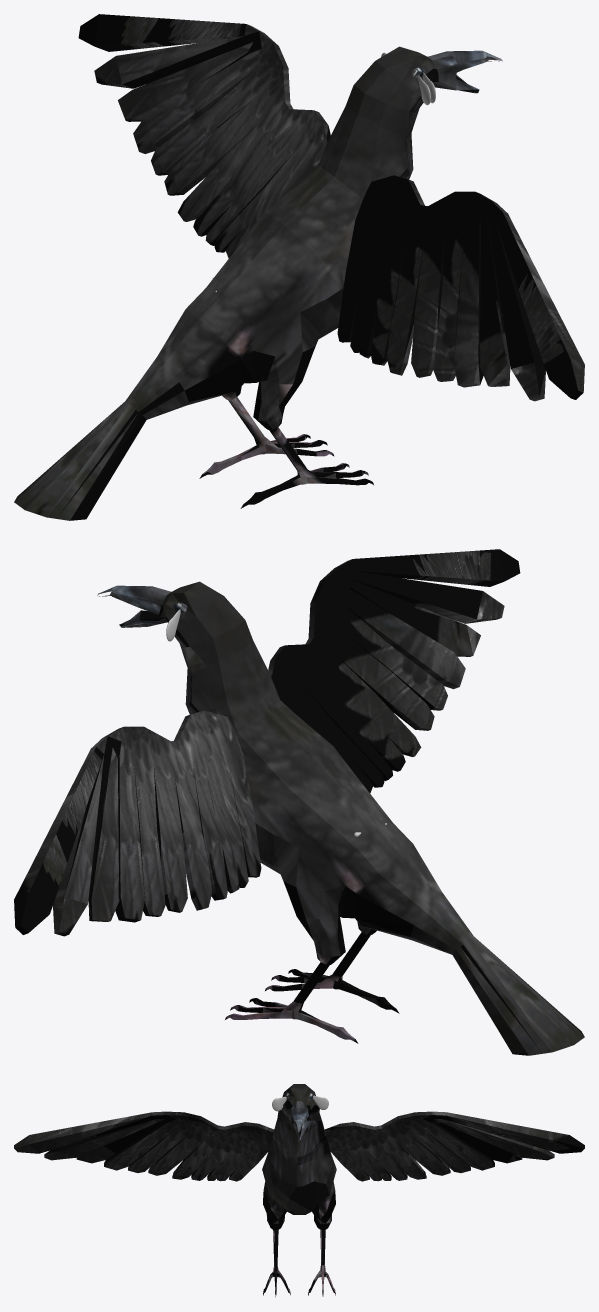
The model's file is aasooo_000000.obj.
3 renders of one model, top to bottom at view 1: azimuth 30°, elevation 25°; view 2: azimuth 150°, elevation 25°; view 3: azimuth 270°, elevation 25°, orthographic. The views are drawn at different scales.
Parts seen in each view (by area): view 1: Cylinder.001, Cylinder.003, Cylinder.002; view 2: Cylinder.001, Cylinder.002, Cylinder.003; view 3: Cylinder.002, Cylinder.003, Cylinder.001.
Part boxes in pixels (bbox=[...]): Cylinder.001: bbox=[14, 46, 502, 520]; Cylinder.003: bbox=[337, 175, 584, 401]; Cylinder.002: bbox=[78, 14, 330, 258]; Cylinder.001: bbox=[97, 581, 584, 1055]; Cylinder.002: bbox=[14, 710, 261, 936]; Cylinder.003: bbox=[268, 549, 520, 793]; Cylinder.002: bbox=[324, 1111, 584, 1181]; Cylinder.003: bbox=[14, 1111, 274, 1181]; Cylinder.001: bbox=[262, 1084, 336, 1297].
Size of the model in its own units: 2.61 by 2.05 by 4.67.
